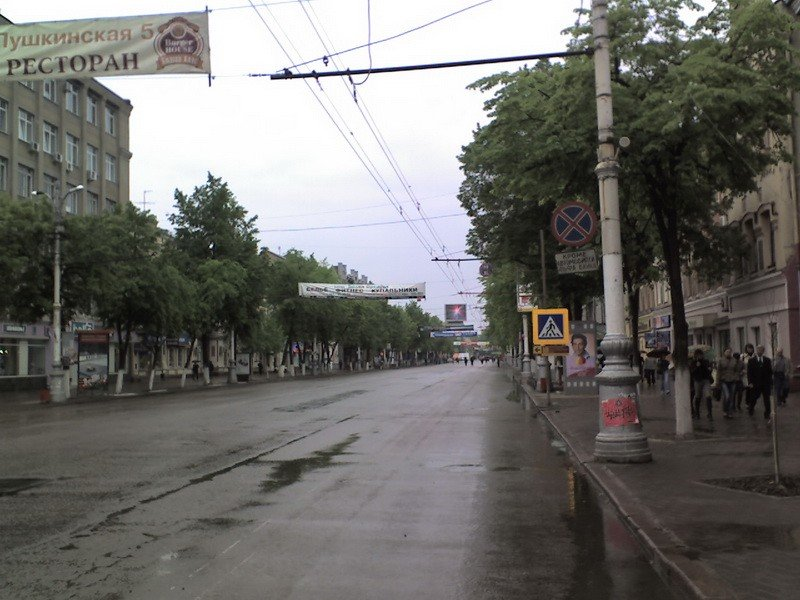sign: (549, 200, 596, 247), (530, 305, 572, 347)
